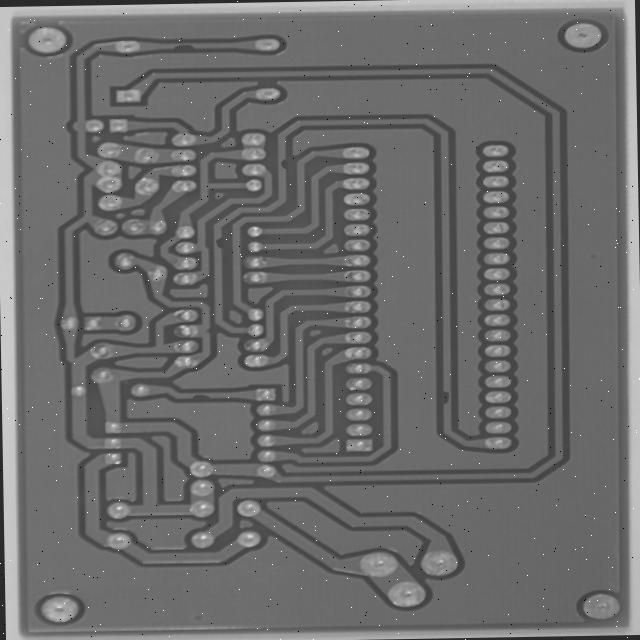mouse_bite: (227, 365, 263, 381), (534, 361, 558, 384), (334, 109, 356, 132), (255, 197, 280, 217)
